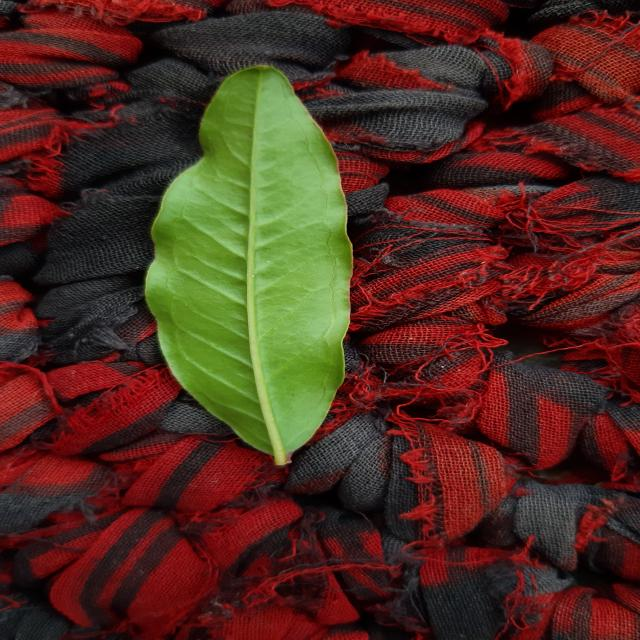pomgranate: (144, 66, 353, 465)
